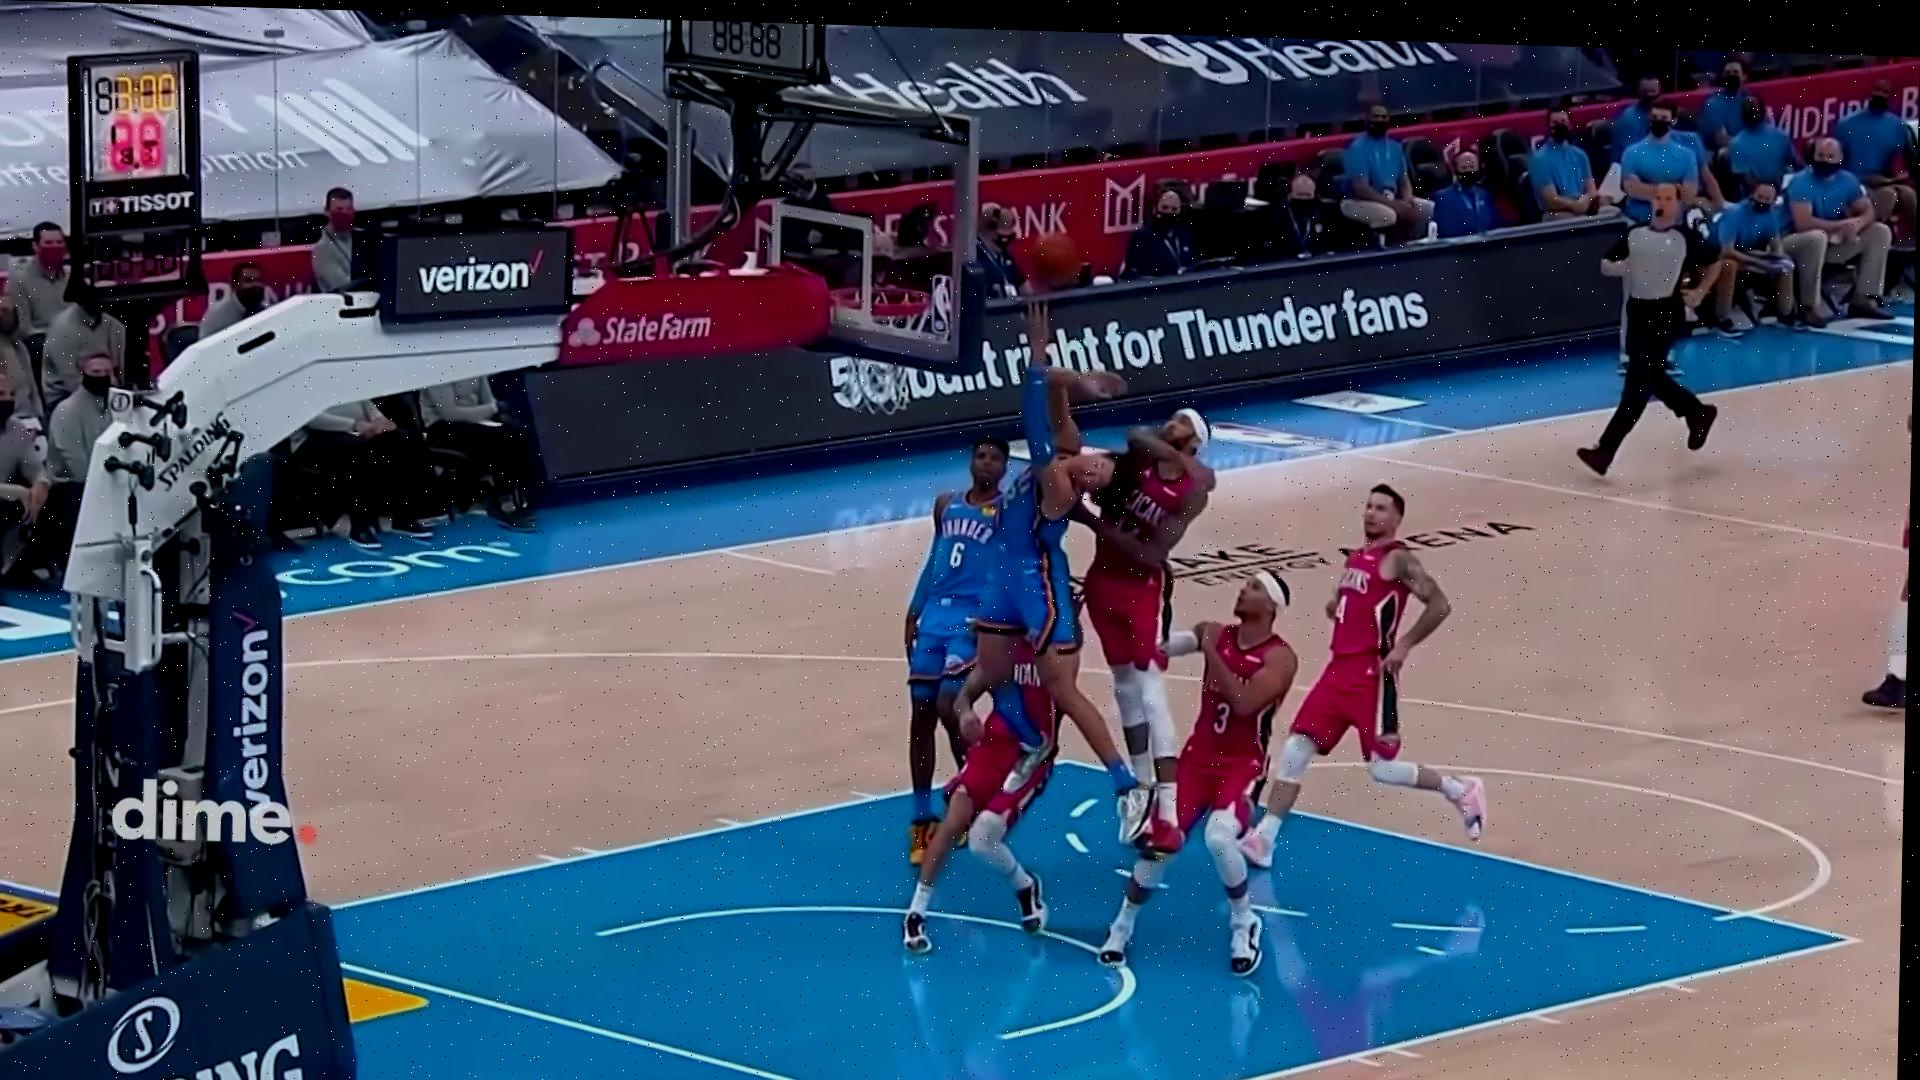foul: (963, 306, 1217, 843)
